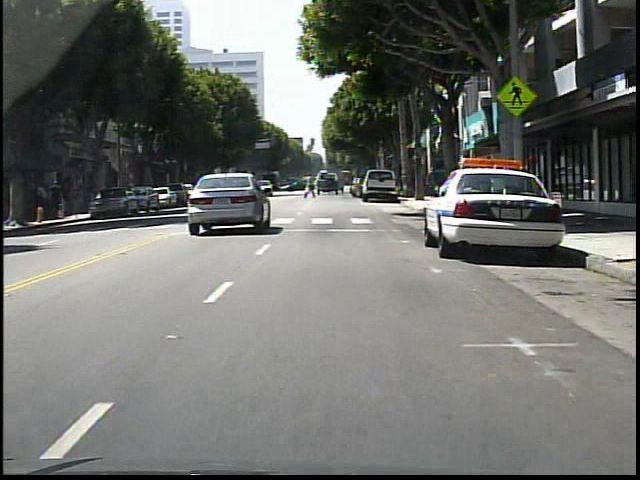person: (425, 164, 442, 205), (53, 180, 67, 220), (38, 183, 51, 219), (306, 173, 319, 201)
